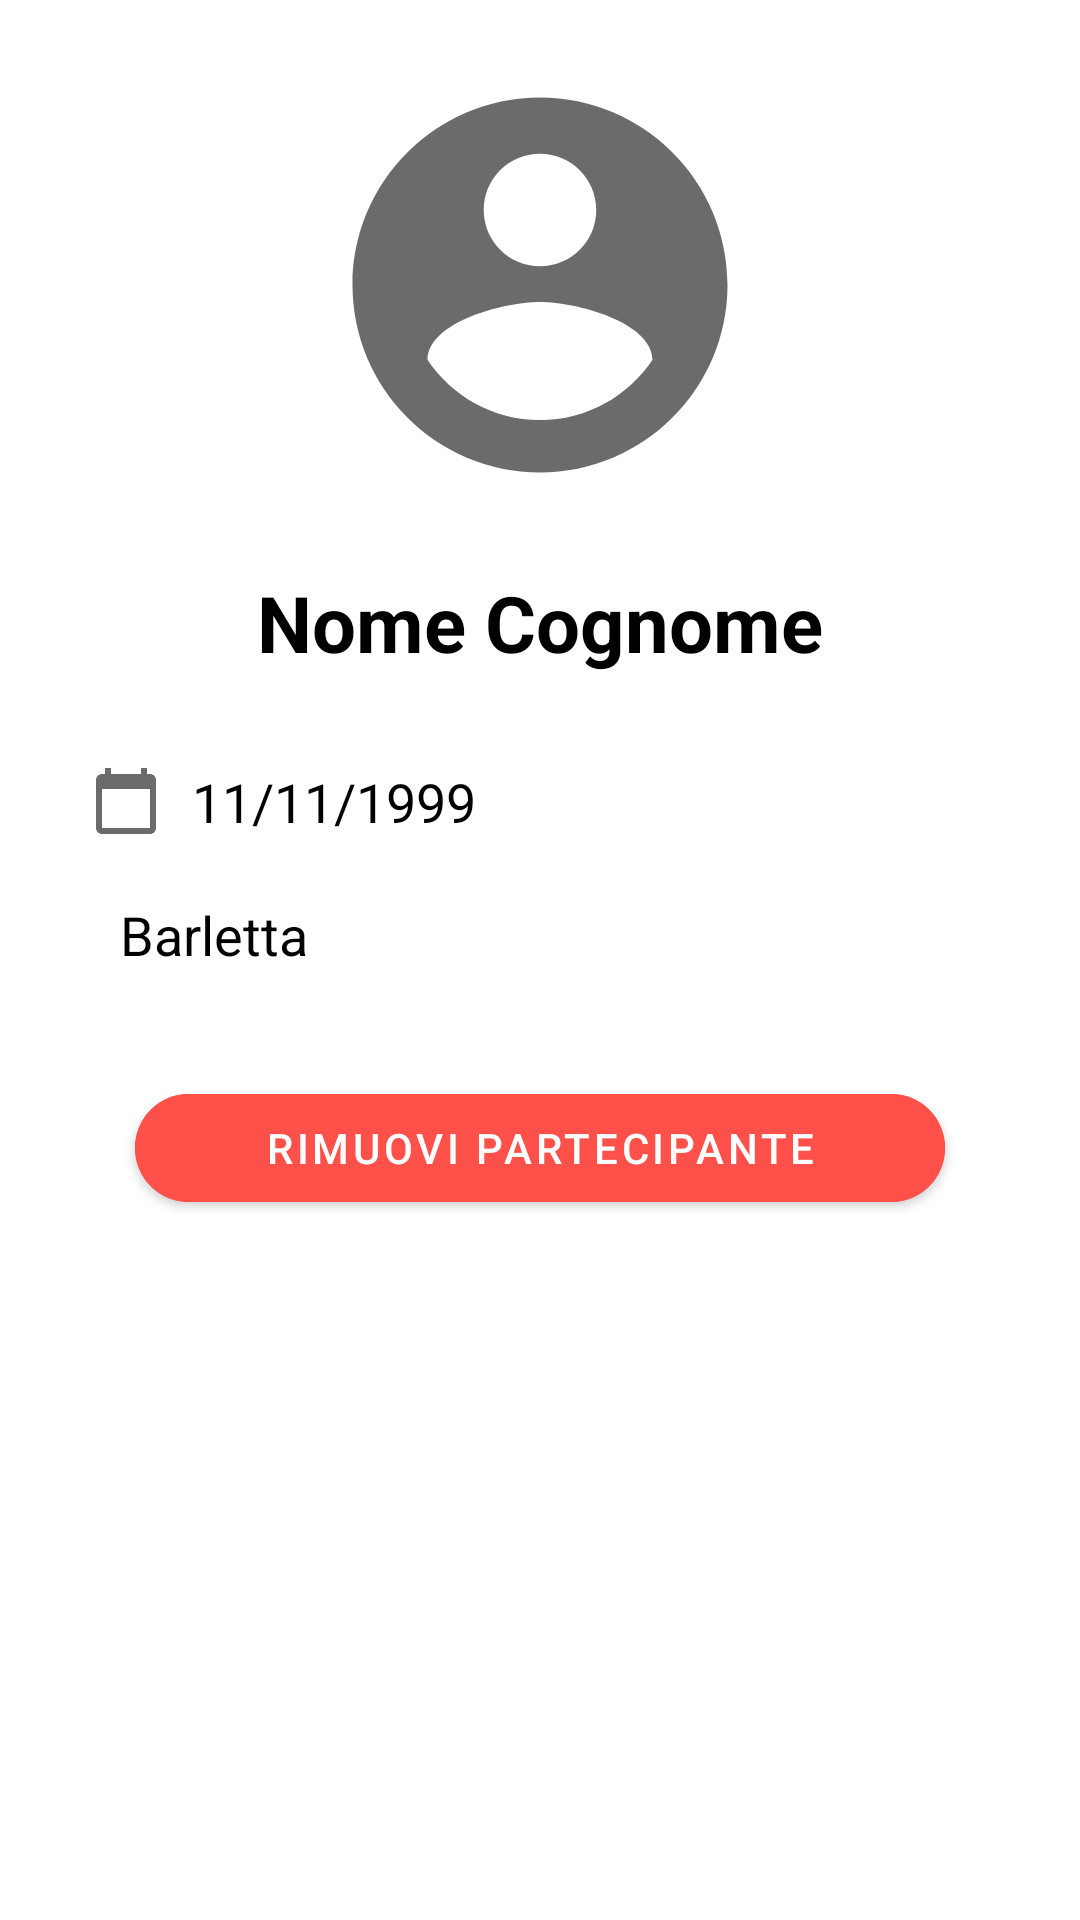

Icons on this 1080px x 1920px Android screen, each with the point to tap as (x=x, y=y):
calendar today: (x=126, y=801)
